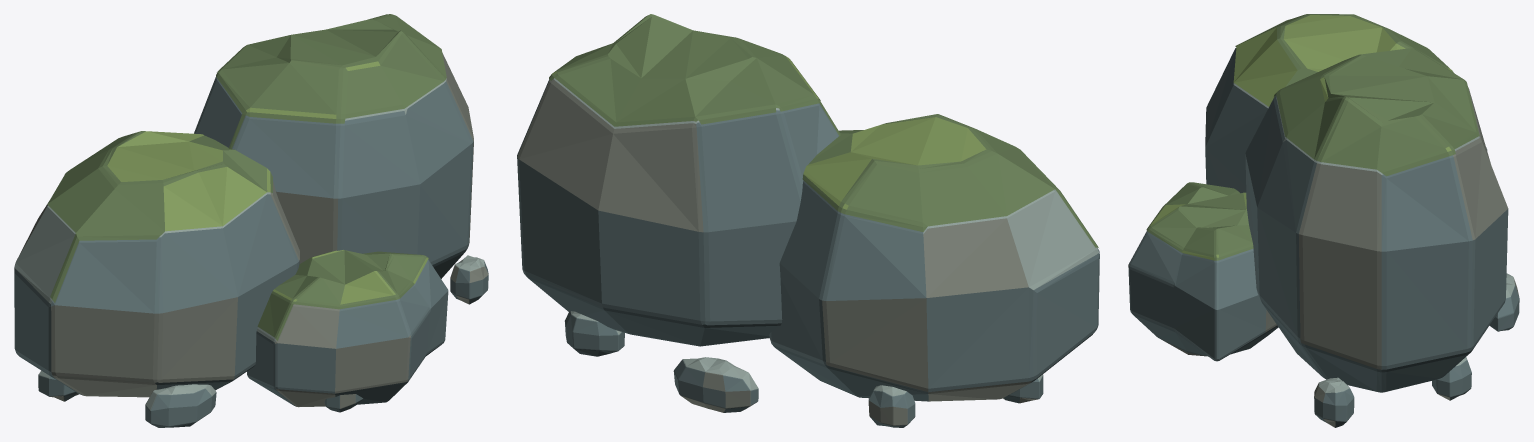
File: rock_cluster.glb
3 renders of one model, left to right at view 1: azimuth 30°, elevation 25°; view 2: azimuth 150°, elevation 25°; view 3: azimuth 270°, elevation 25°, orthographic. The views are drawn at different scales.
Parts seen in each view (by area): view 1: Keep_Mesh; view 2: Keep_Mesh; view 3: Keep_Mesh.
Boxes of the visible parts, left/top/right/bottom form: Keep_Mesh: left=14, top=14, right=488, bottom=427; Keep_Mesh: left=517, top=14, right=1099, bottom=427; Keep_Mesh: left=1128, top=14, right=1519, bottom=427.
Size of the model in its own units: 2.92 by 1.69 by 2.01.
